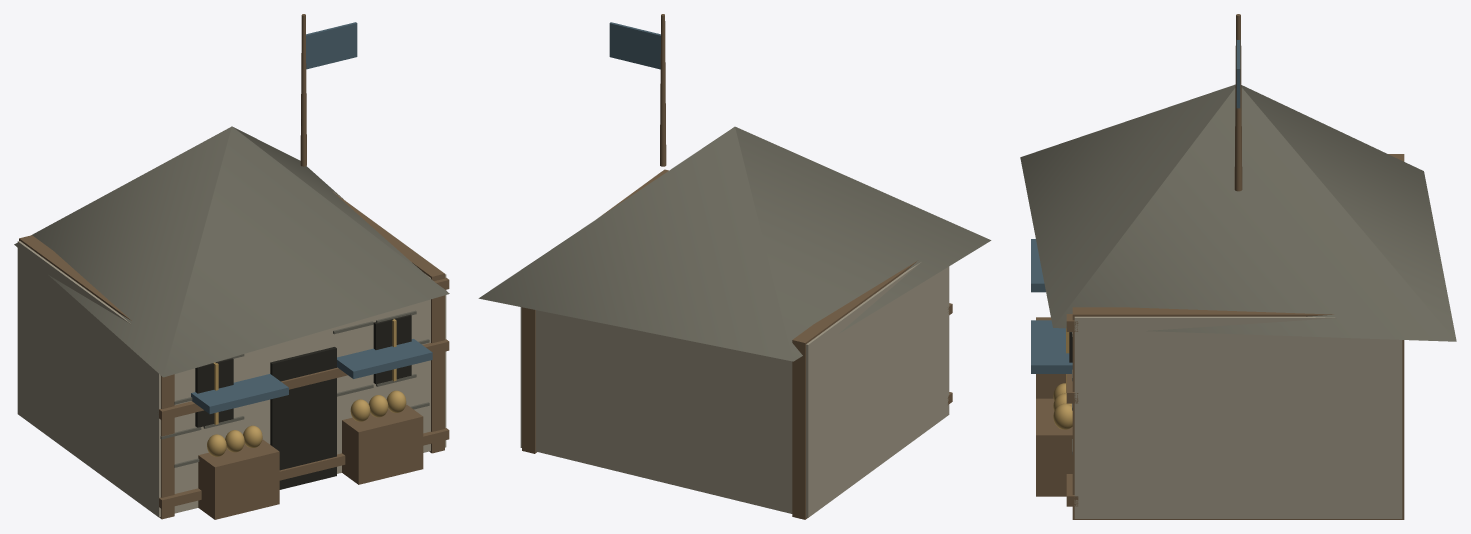
Rendered from b-market.glb.
3 views of the same model, side by side, from view 1: azimuth 30°, elevation 25°; view 2: azimuth 150°, elevation 25°; view 3: azimuth 270°, elevation 25° (orthographic). The views are drawn at different scales.
Visible parts, largest first — view 1: Structure; view 2: Structure; view 3: Structure.
Boxes of the visible parts, box(x1,y1,x2,y2) form: Structure: box(14, 14, 449, 519); Structure: box(478, 14, 991, 519); Structure: box(1020, 14, 1456, 519).
Bounding box in the file's own units: 4.53 × 5.33 × 4.53.
